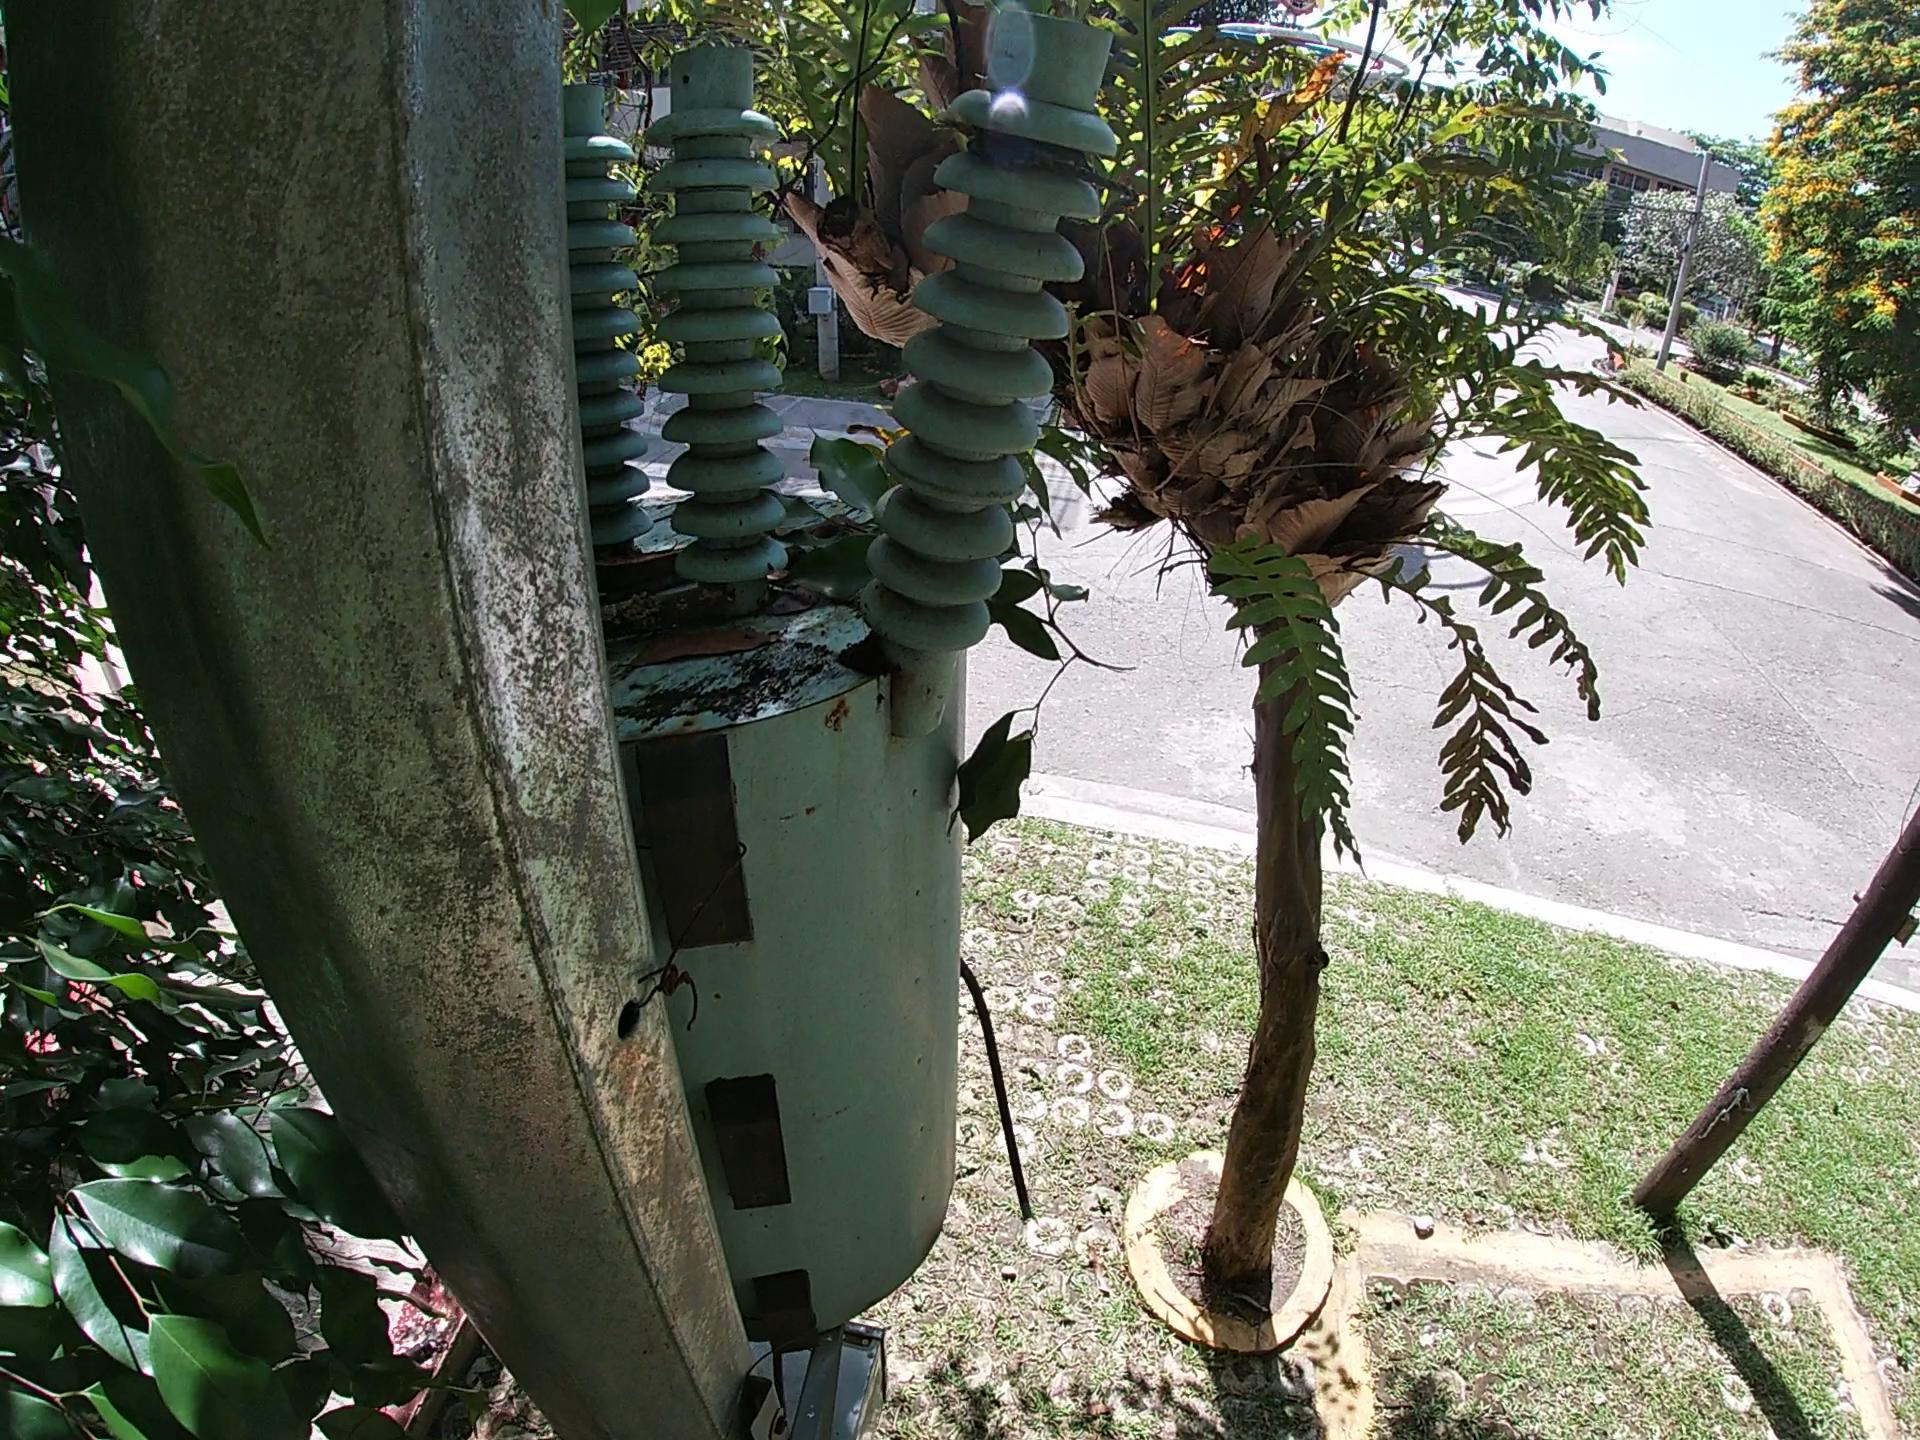branch with leaves: (943, 437, 1143, 856)
leaf: (779, 405, 897, 570), (626, 634, 785, 667)
mahogany fruit: (588, 545, 692, 579)
tree branch: (596, 591, 735, 617)
